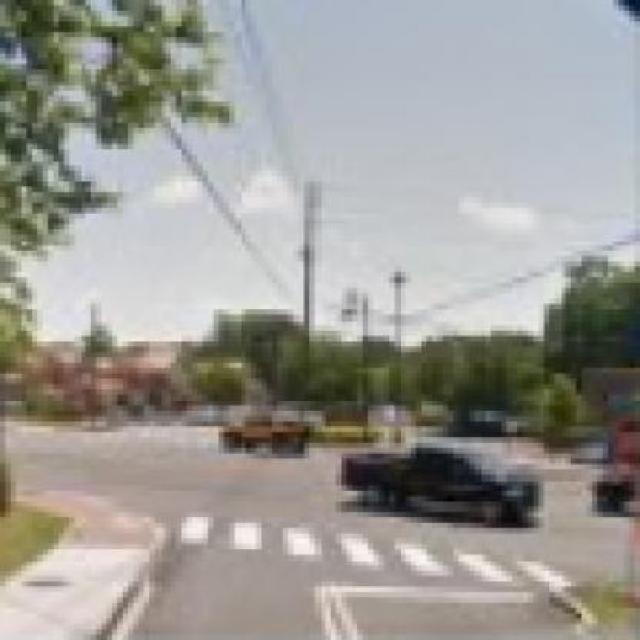crosswalk: (175, 514, 577, 595)
